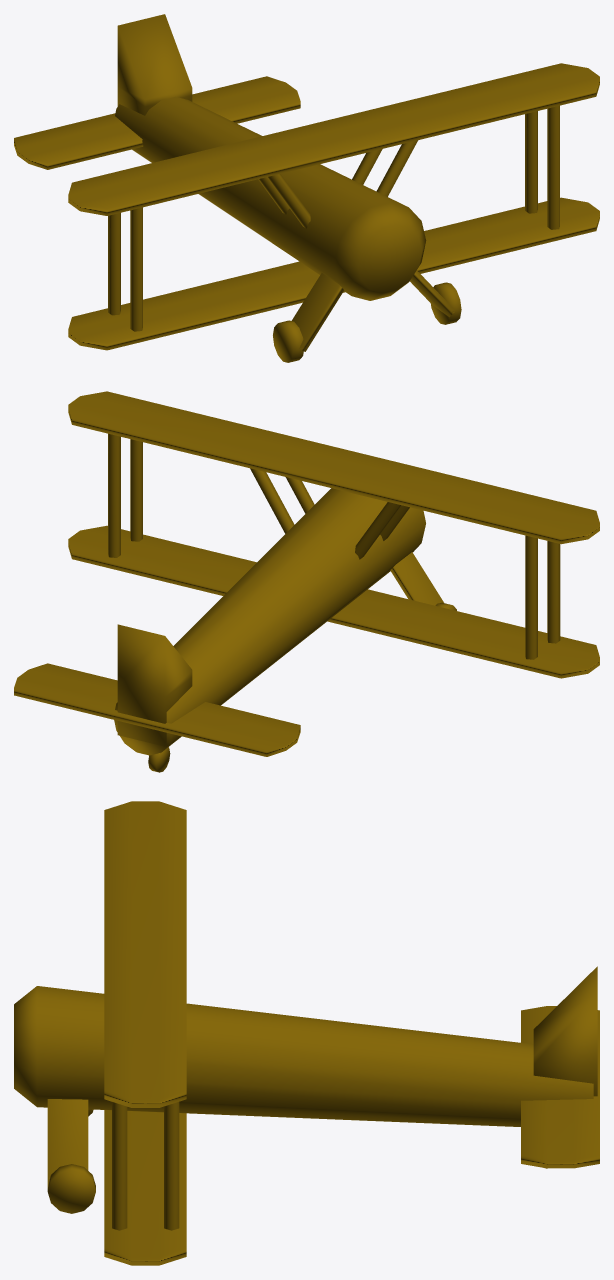
File: Proto_Plane.fbx
3 renders of one model, top to bottom at view 1: azimuth 30°, elevation 25°; view 2: azimuth 150°, elevation 25°; view 3: azimuth 270°, elevation 25°, orthographic. The views are drawn at different scales.
Parts seen in each view (by area): view 1: Proto_plane; view 2: Proto_plane; view 3: Proto_plane.
Boxes of the visible parts, <box> form: Proto_plane: <box>14,14,599,362</box>; Proto_plane: <box>14,391,599,772</box>; Proto_plane: <box>14,801,599,1265</box>.
Size of the model in its own units: 873 by 294 by 726.
